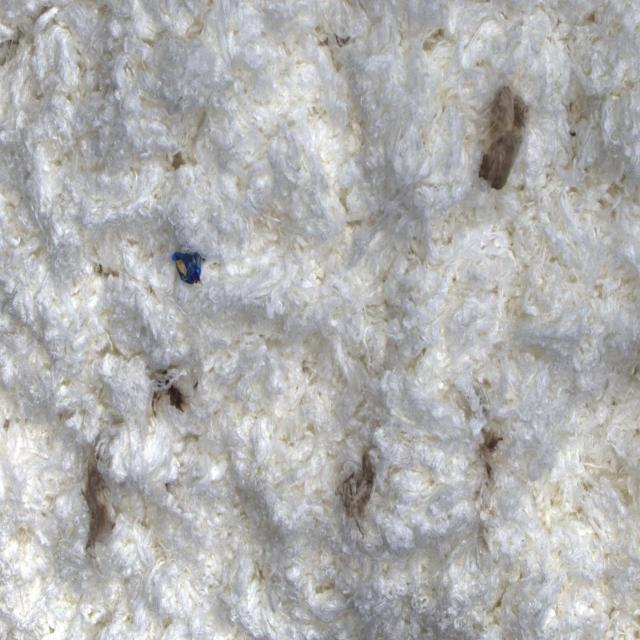dust: (476, 75, 533, 194), (81, 433, 117, 560), (332, 445, 387, 520), (476, 415, 505, 505), (149, 367, 189, 422), (173, 244, 211, 290), (164, 144, 201, 182), (94, 261, 123, 288)
